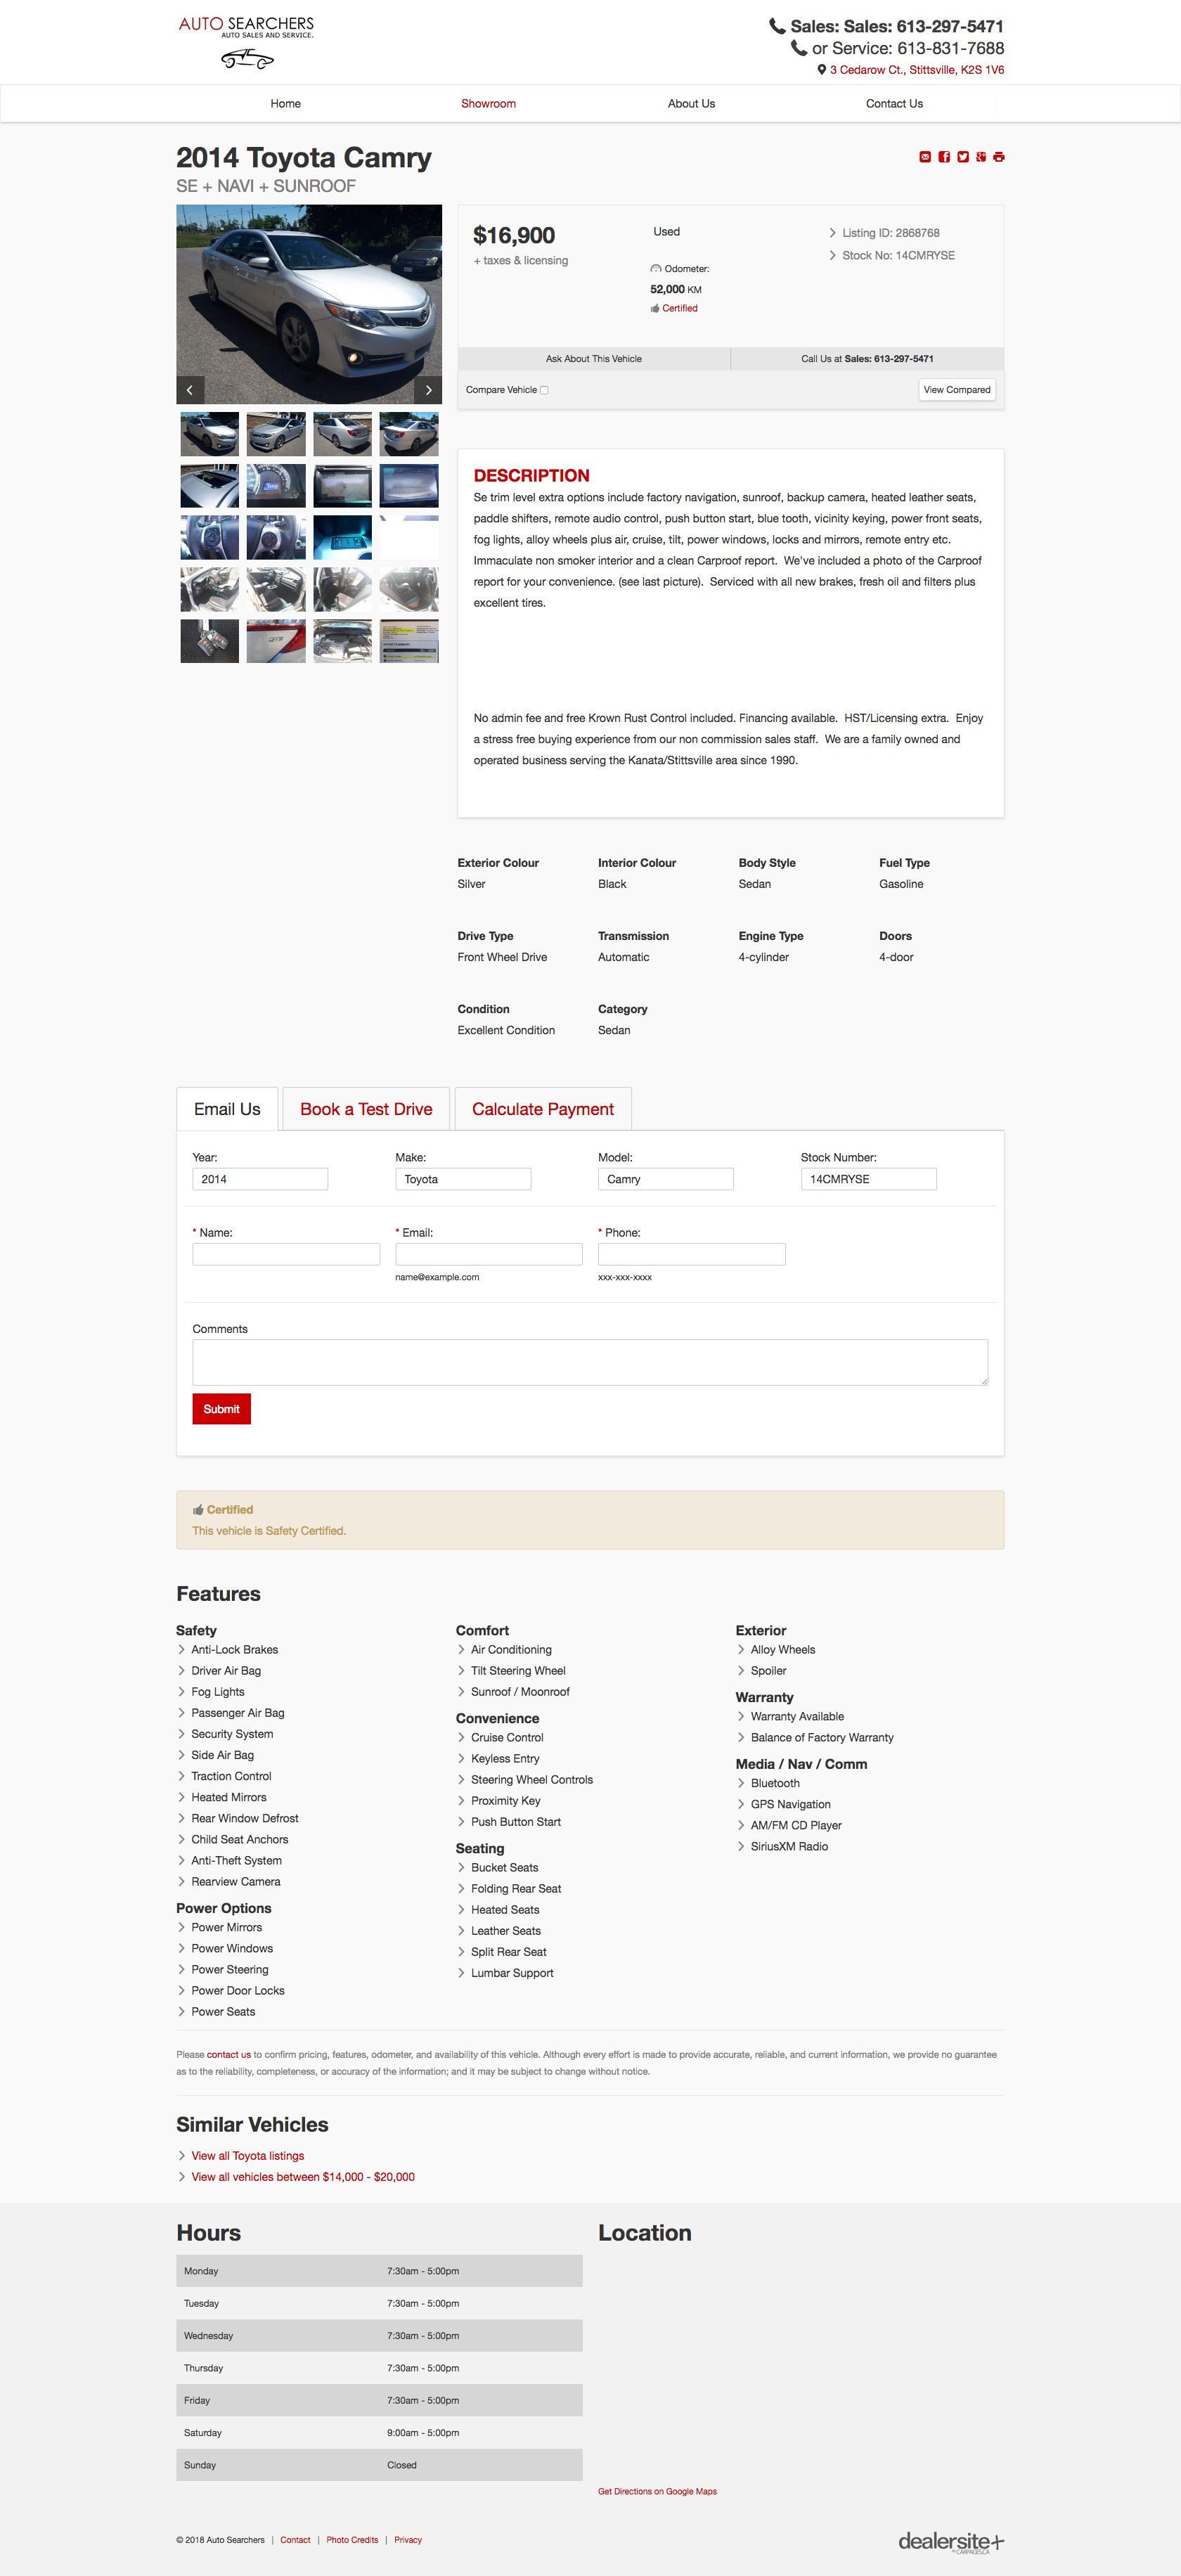car: (414, 376, 443, 406)
